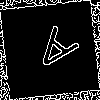A: (25, 25, 80, 81)
